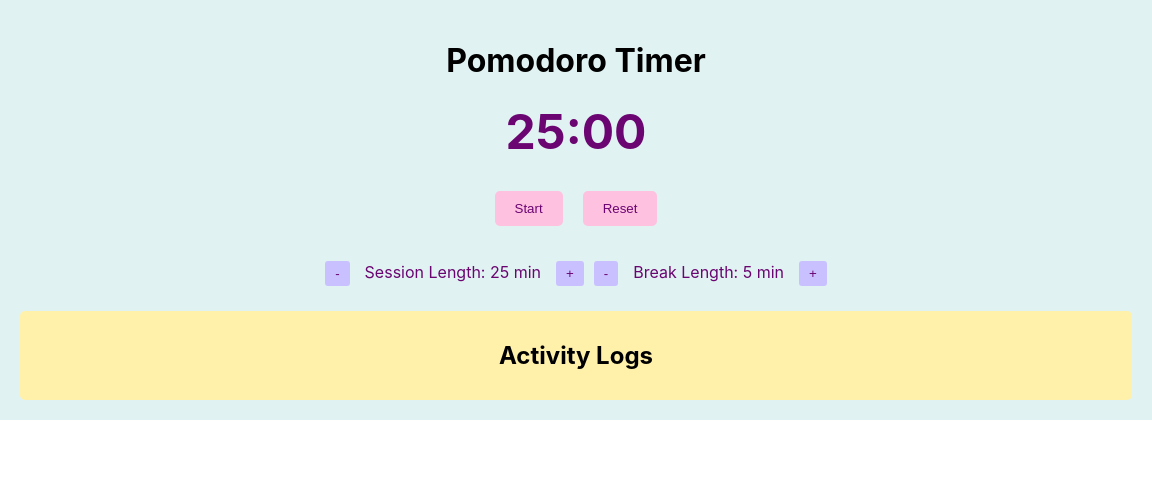
Test: <App /> tests › resets the timer when "Reset" is clicked
The image size is (1152, 483).
Click the button "Start" at (529, 208), box x1=494 y1=191 x2=563 y2=226
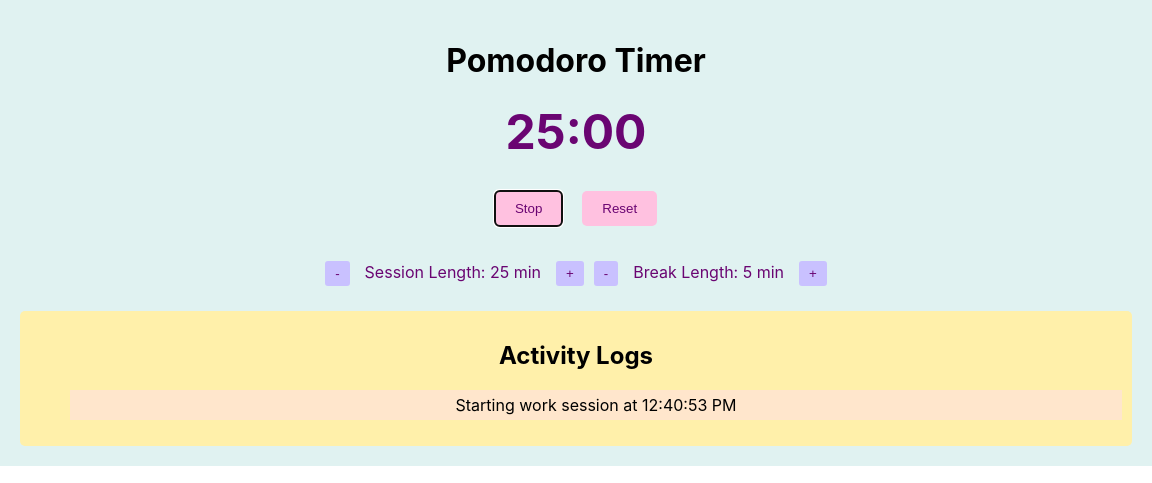
expect the button "Stop" is shown: met, box x1=495 y1=191 x2=562 y2=226
Click the button "Reset" at (620, 208), box x1=582 y1=191 x2=657 y2=226
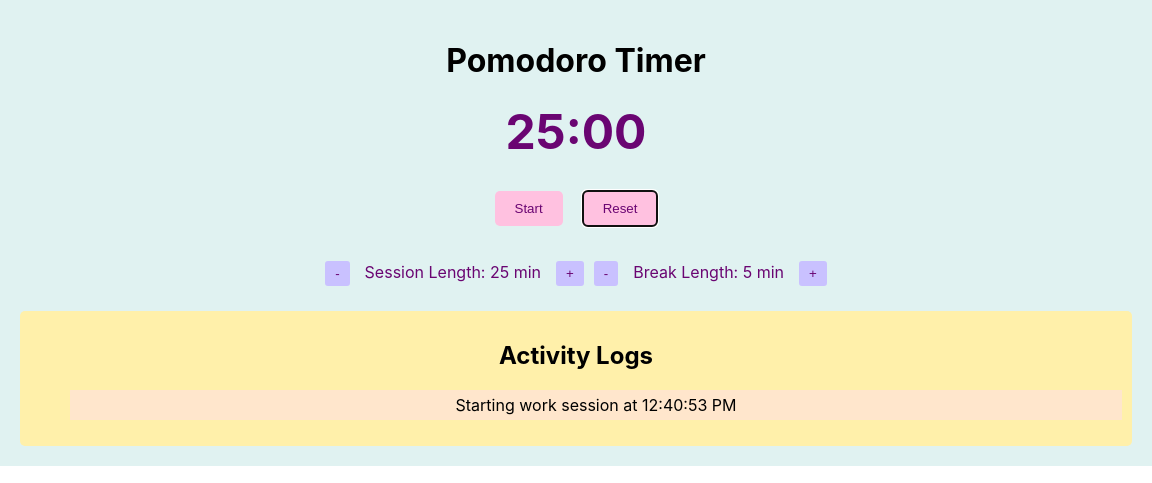
expect the text "Session Length: 25 min" is shown: met, box x1=365 y1=262 x2=541 y2=282
expect the button "Start" is shown: met, box x1=494 y1=191 x2=563 y2=226
